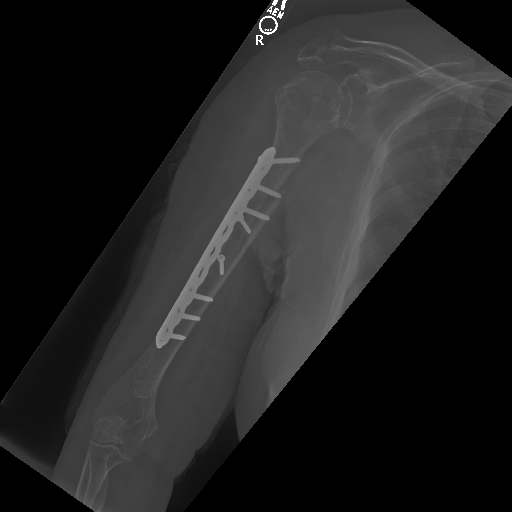implant: (152, 234, 226, 349), (234, 143, 300, 239)
